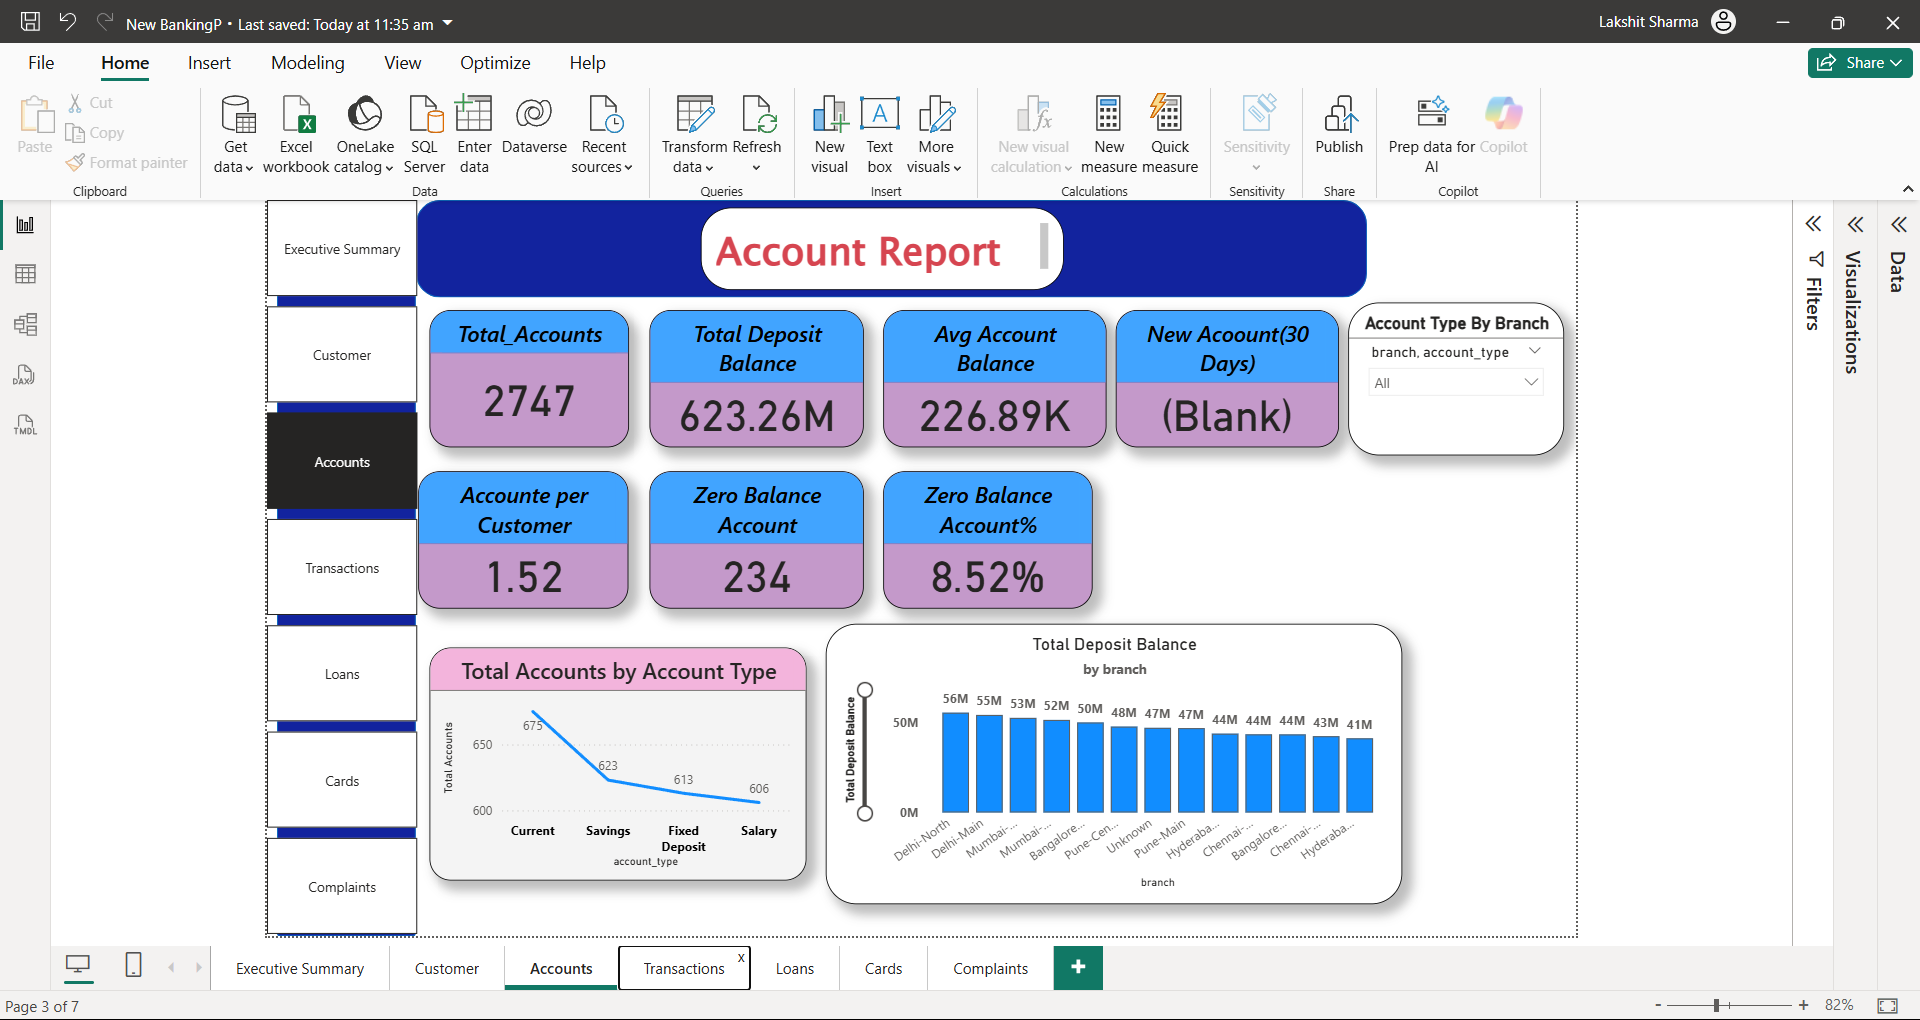

The page's visual inventory and layout, read from the dashboard file:
{"tool":"powerbi","page":{"name":"Accounts ","canvas":[1280,720],"ordinal":2},"visuals":[{"type":"card","title":"Total_Accounts","fields":{"Values":["All Measures.Total Accounts"]},"box":[159.2,107,194.9,134.5],"z":0},{"type":"card","title":"Total Deposit Balance","fields":{"Values":["All Measures.Total Deposit Balance"]},"box":[374.6,107,209.9,134.5],"z":1000},{"type":"card","title":"Avg Account Balance","fields":{"Values":["All Measures.Average Account Balance"]},"box":[602.4,107,218.2,134.5],"z":2000},{"type":"card","title":"Accounte per Customer","fields":{"Values":["All Measures.Accounts per Customer"]},"box":[148.2,264.8,205.8,134.5],"z":3000},{"type":"card","title":"Zero Balance Account","fields":{"Values":["All Measures.Zero Balance Accounts"]},"box":[374.6,264.8,209.9,134.5],"z":4000},{"type":"card","title":"Zero Balance Account%","fields":{"Values":["All Measures.Zero Balance Account %"]},"box":[602.4,264.8,204.5,134.5],"z":5000},{"type":"card","title":"New Acoount(30 Days)","fields":{"Values":["All Measures.New Accounts (30 Days)"]},"box":[830.2,107,218.2,134.5],"z":6000},{"type":"shape","box":[145.5,0,930.6,95.4],"z":7000},{"type":"textbox","box":[424,6.9,355.4,81],"z":8000},{"type":"shape","box":[9.8,0,135.7,720.2],"z":9000},{"type":"columnChart","fields":{"Category":["accounts.branch"],"Y":["All Measures.Total Deposit Balance"]},"box":[546.1,414.4,564,274.4],"z":10000},{"type":"lineChart","title":"Total Accounts by Account Type","fields":{"Y":["All Measures.Total Accounts"],"Category":["accounts.account_type"]},"box":[159.2,437.7,369.1,227.8],"z":11000},{"type":"slicer","title":"Account Type By Branch","fields":{"Values":["accounts.branch","accounts.account_type"]},"box":[1058,100.2,211.3,149.6],"z":12000},{"type":"pageNavigator","box":[0,0,148,720.2],"z":14000}]}

Visuals, with their boxes on the page's 1280x720 design canvas (x1, y1, x2, y2). These are canvas units, not pixel positions in the 1920x1020 screenshot, which may show the page scaled, cropped or inside an application window:
"Total_Accounts" card: [159, 107, 354, 242]
"Total Deposit Balance" card: [375, 107, 584, 242]
"Avg Account Balance" card: [602, 107, 821, 242]
"Accounte per Customer" card: [148, 265, 354, 399]
"Zero Balance Account" card: [375, 265, 584, 399]
"Zero Balance Account%" card: [602, 265, 807, 399]
"New Acoount(30 Days)" card: [830, 107, 1048, 242]
shape: [146, 0, 1076, 95]
textbox: [424, 7, 779, 88]
shape: [10, 0, 146, 720]
columnChart - accounts.branch x All Measures.Total Deposit Balance: [546, 414, 1110, 689]
"Total Accounts by Account Type" lineChart: [159, 438, 528, 666]
"Account Type By Branch" slicer: [1058, 100, 1269, 250]
pageNavigator: [0, 0, 148, 720]
